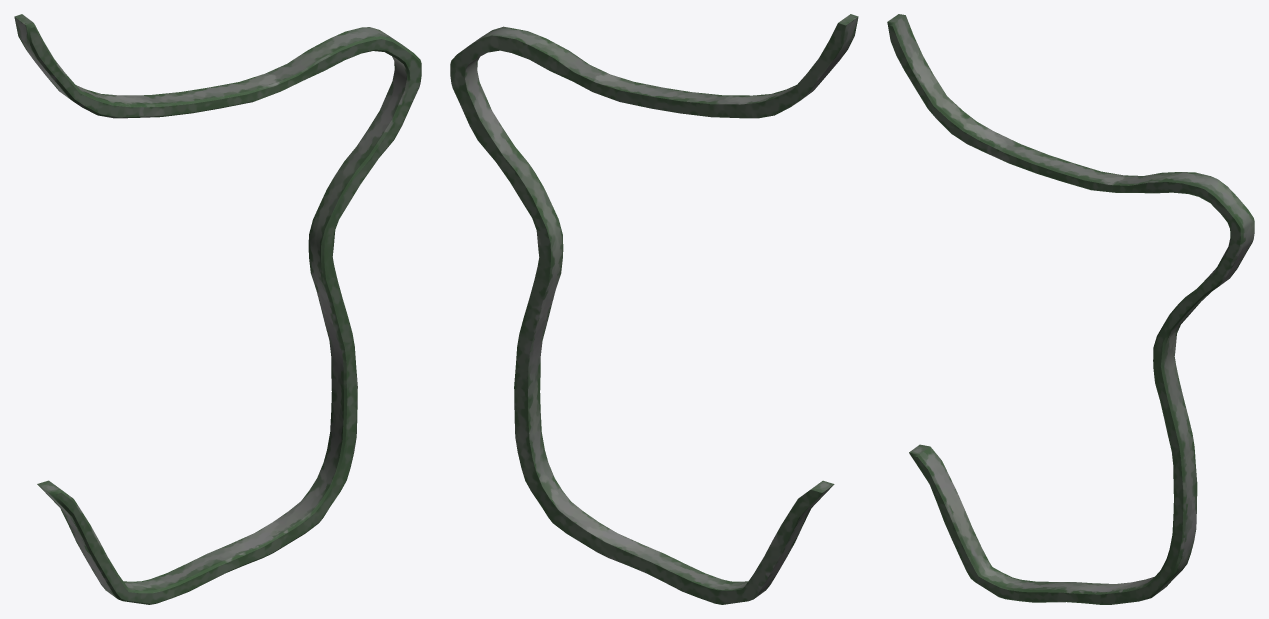
3 views of the same model, side by side, from view 1: azimuth 30°, elevation 25°; view 2: azimuth 150°, elevation 25°; view 3: azimuth 330°, elevation 25° (orthographic). The views are drawn at different scales.
Parts seen in each view (by area): view 1: Plane.003; view 2: Plane.003; view 3: Plane.003.
Boxes of the visible parts, x1,y1,x2,y2 form: Plane.003: [14, 14, 421, 604]; Plane.003: [450, 14, 858, 604]; Plane.003: [887, 14, 1254, 604].
Size of the model in its own units: 1689 by 2491 by 108.
Materials: 1 (1 with a texture image).
